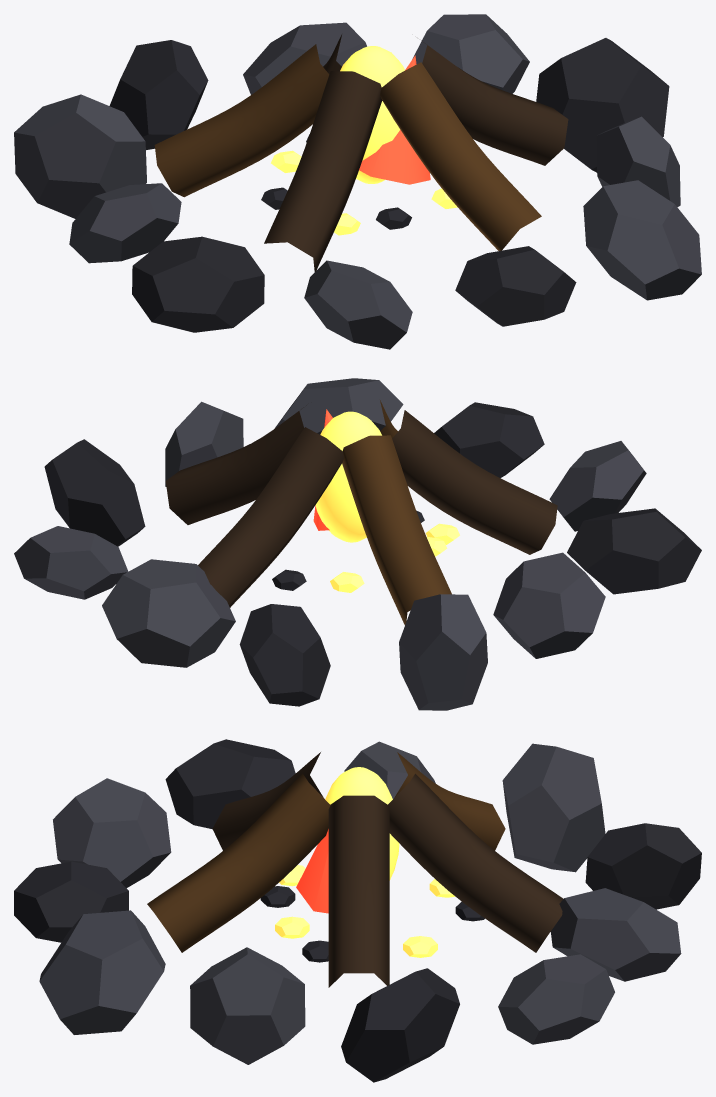
Rendered from mia-campfire.glb.
The picture shows the model from 3 angles, top to bottom: view 1: azimuth 30°, elevation 25°; view 2: azimuth 150°, elevation 25°; view 3: azimuth 270°, elevation 25°; orthographic projection. The views are drawn at different scales.
Visible parts, largest first — view 1: Body_stone, Body_iron, Body_wood, Body_grain, Body_amber, Body_red-bulb; view 2: Body_stone, Body_iron, Body_grain, Body_wood, Body_amber; view 3: Body_stone, Body_iron, Body_grain, Body_wood, Body_amber, Body_red-bulb.
Part boxes in pixels (<box>): Body_stone: <box>14,14,701,349</box>; Body_iron: <box>109,38,669,332</box>; Body_wood: <box>154,44,541,250</box>; Body_grain: <box>264,34,568,271</box>; Body_amber: <box>271,46,457,235</box>; Body_red-bulb: <box>359,55,430,184</box>; Body_stone: <box>14,378,646,710</box>; Body_iron: <box>44,402,701,706</box>; Body_grain: <box>165,405,557,607</box>; Body_wood: <box>342,400,451,624</box>; Body_amber: <box>315,411,459,592</box>; Body_stone: <box>39,741,681,1064</box>; Body_iron: <box>14,739,701,1082</box>; Body_grain: <box>212,752,563,987</box>; Body_wood: <box>147,752,505,952</box>; Body_amber: <box>275,767,454,957</box>; Body_red-bulb: <box>296,796,342,913</box>.
Bounding box in the file's own units: 1.43 × 0.4529 × 1.44.
